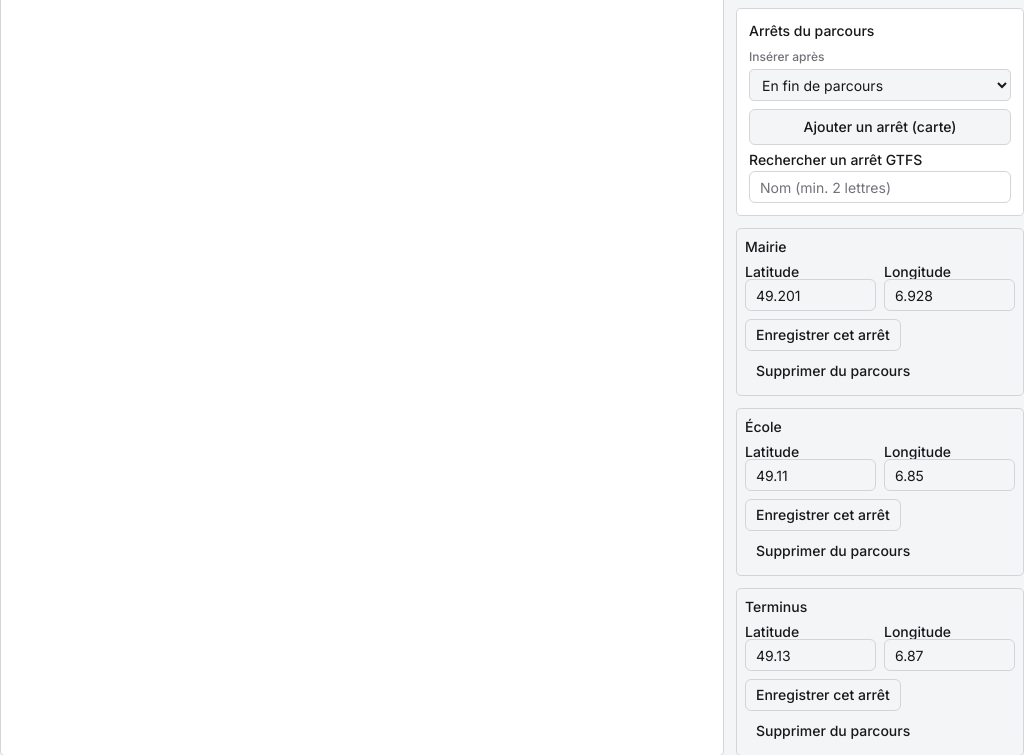
Test: MapEditor — brouillon local › supprime un arrêt du parcours localement
The width and height of the screenshot is (1024, 755).
(page scrolled)
Expected: the number of number fields labelled "Latitude" is 3, [745, 279, 876, 311]; [745, 459, 876, 491]; [745, 639, 876, 671]
Click the button "Supprimer du parcours" below "Mairie" at (833, 371), box [745, 355, 921, 387]
(page scrolled)
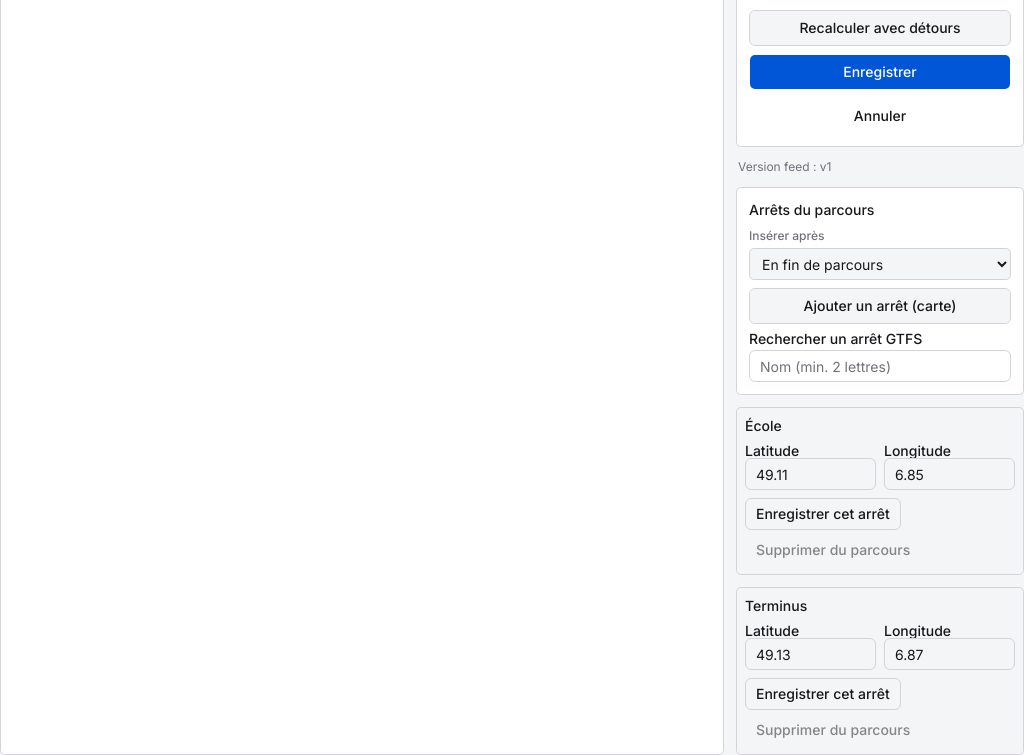
Result: the number of number fields labelled "Latitude" is 2 at [745, 458, 876, 490]; [745, 638, 876, 670]
